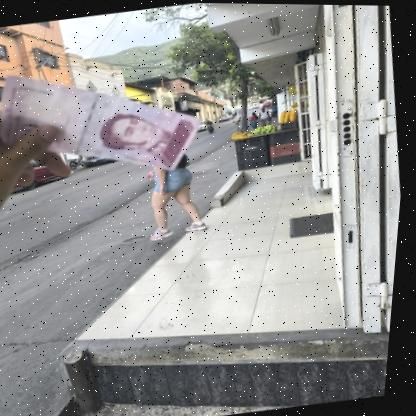one_hundred-front-vef: (0, 45, 215, 195)
